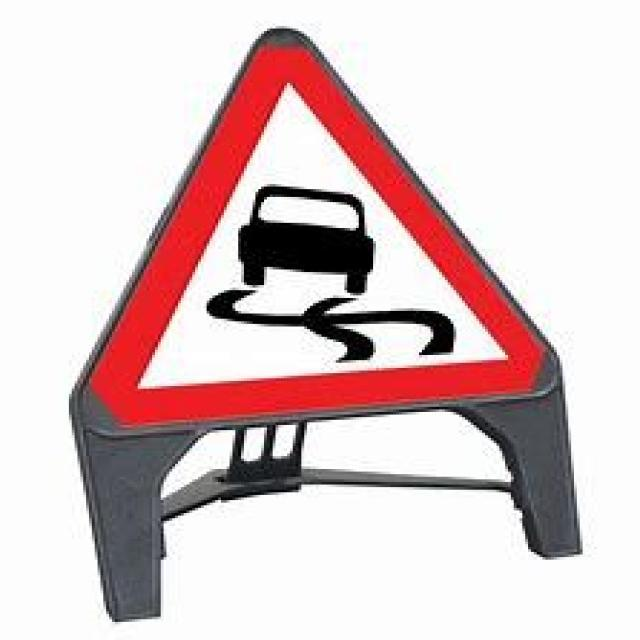slippery road: (66, 28, 553, 429)
